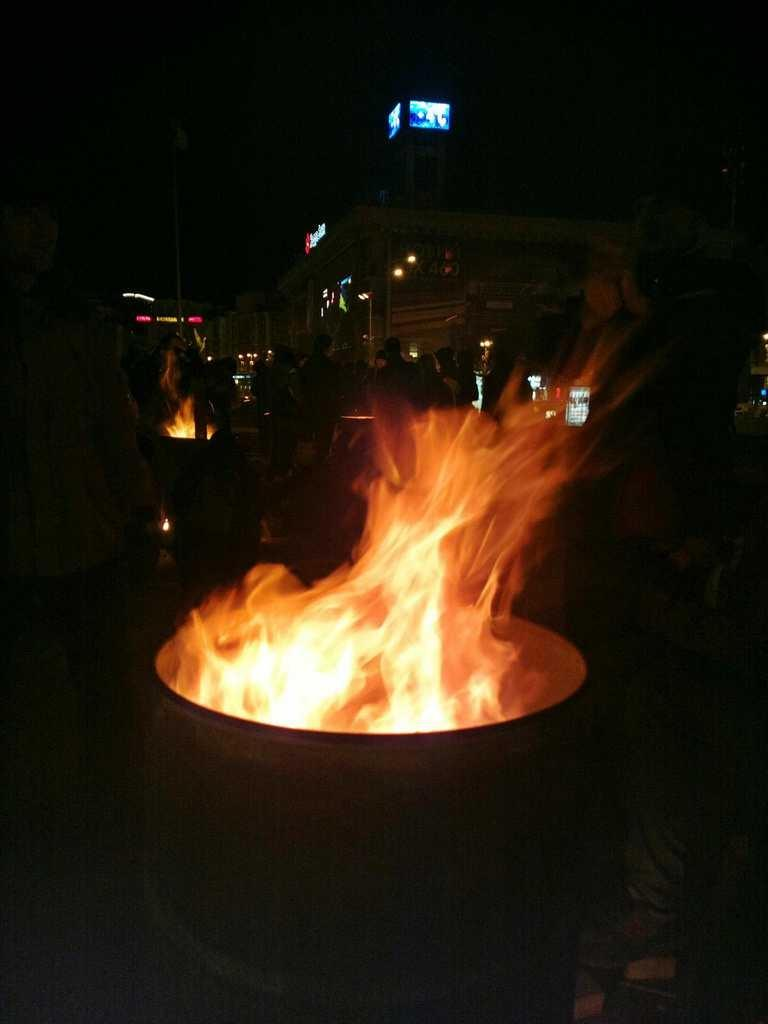fire: (368, 460, 522, 720), (223, 592, 358, 717)
